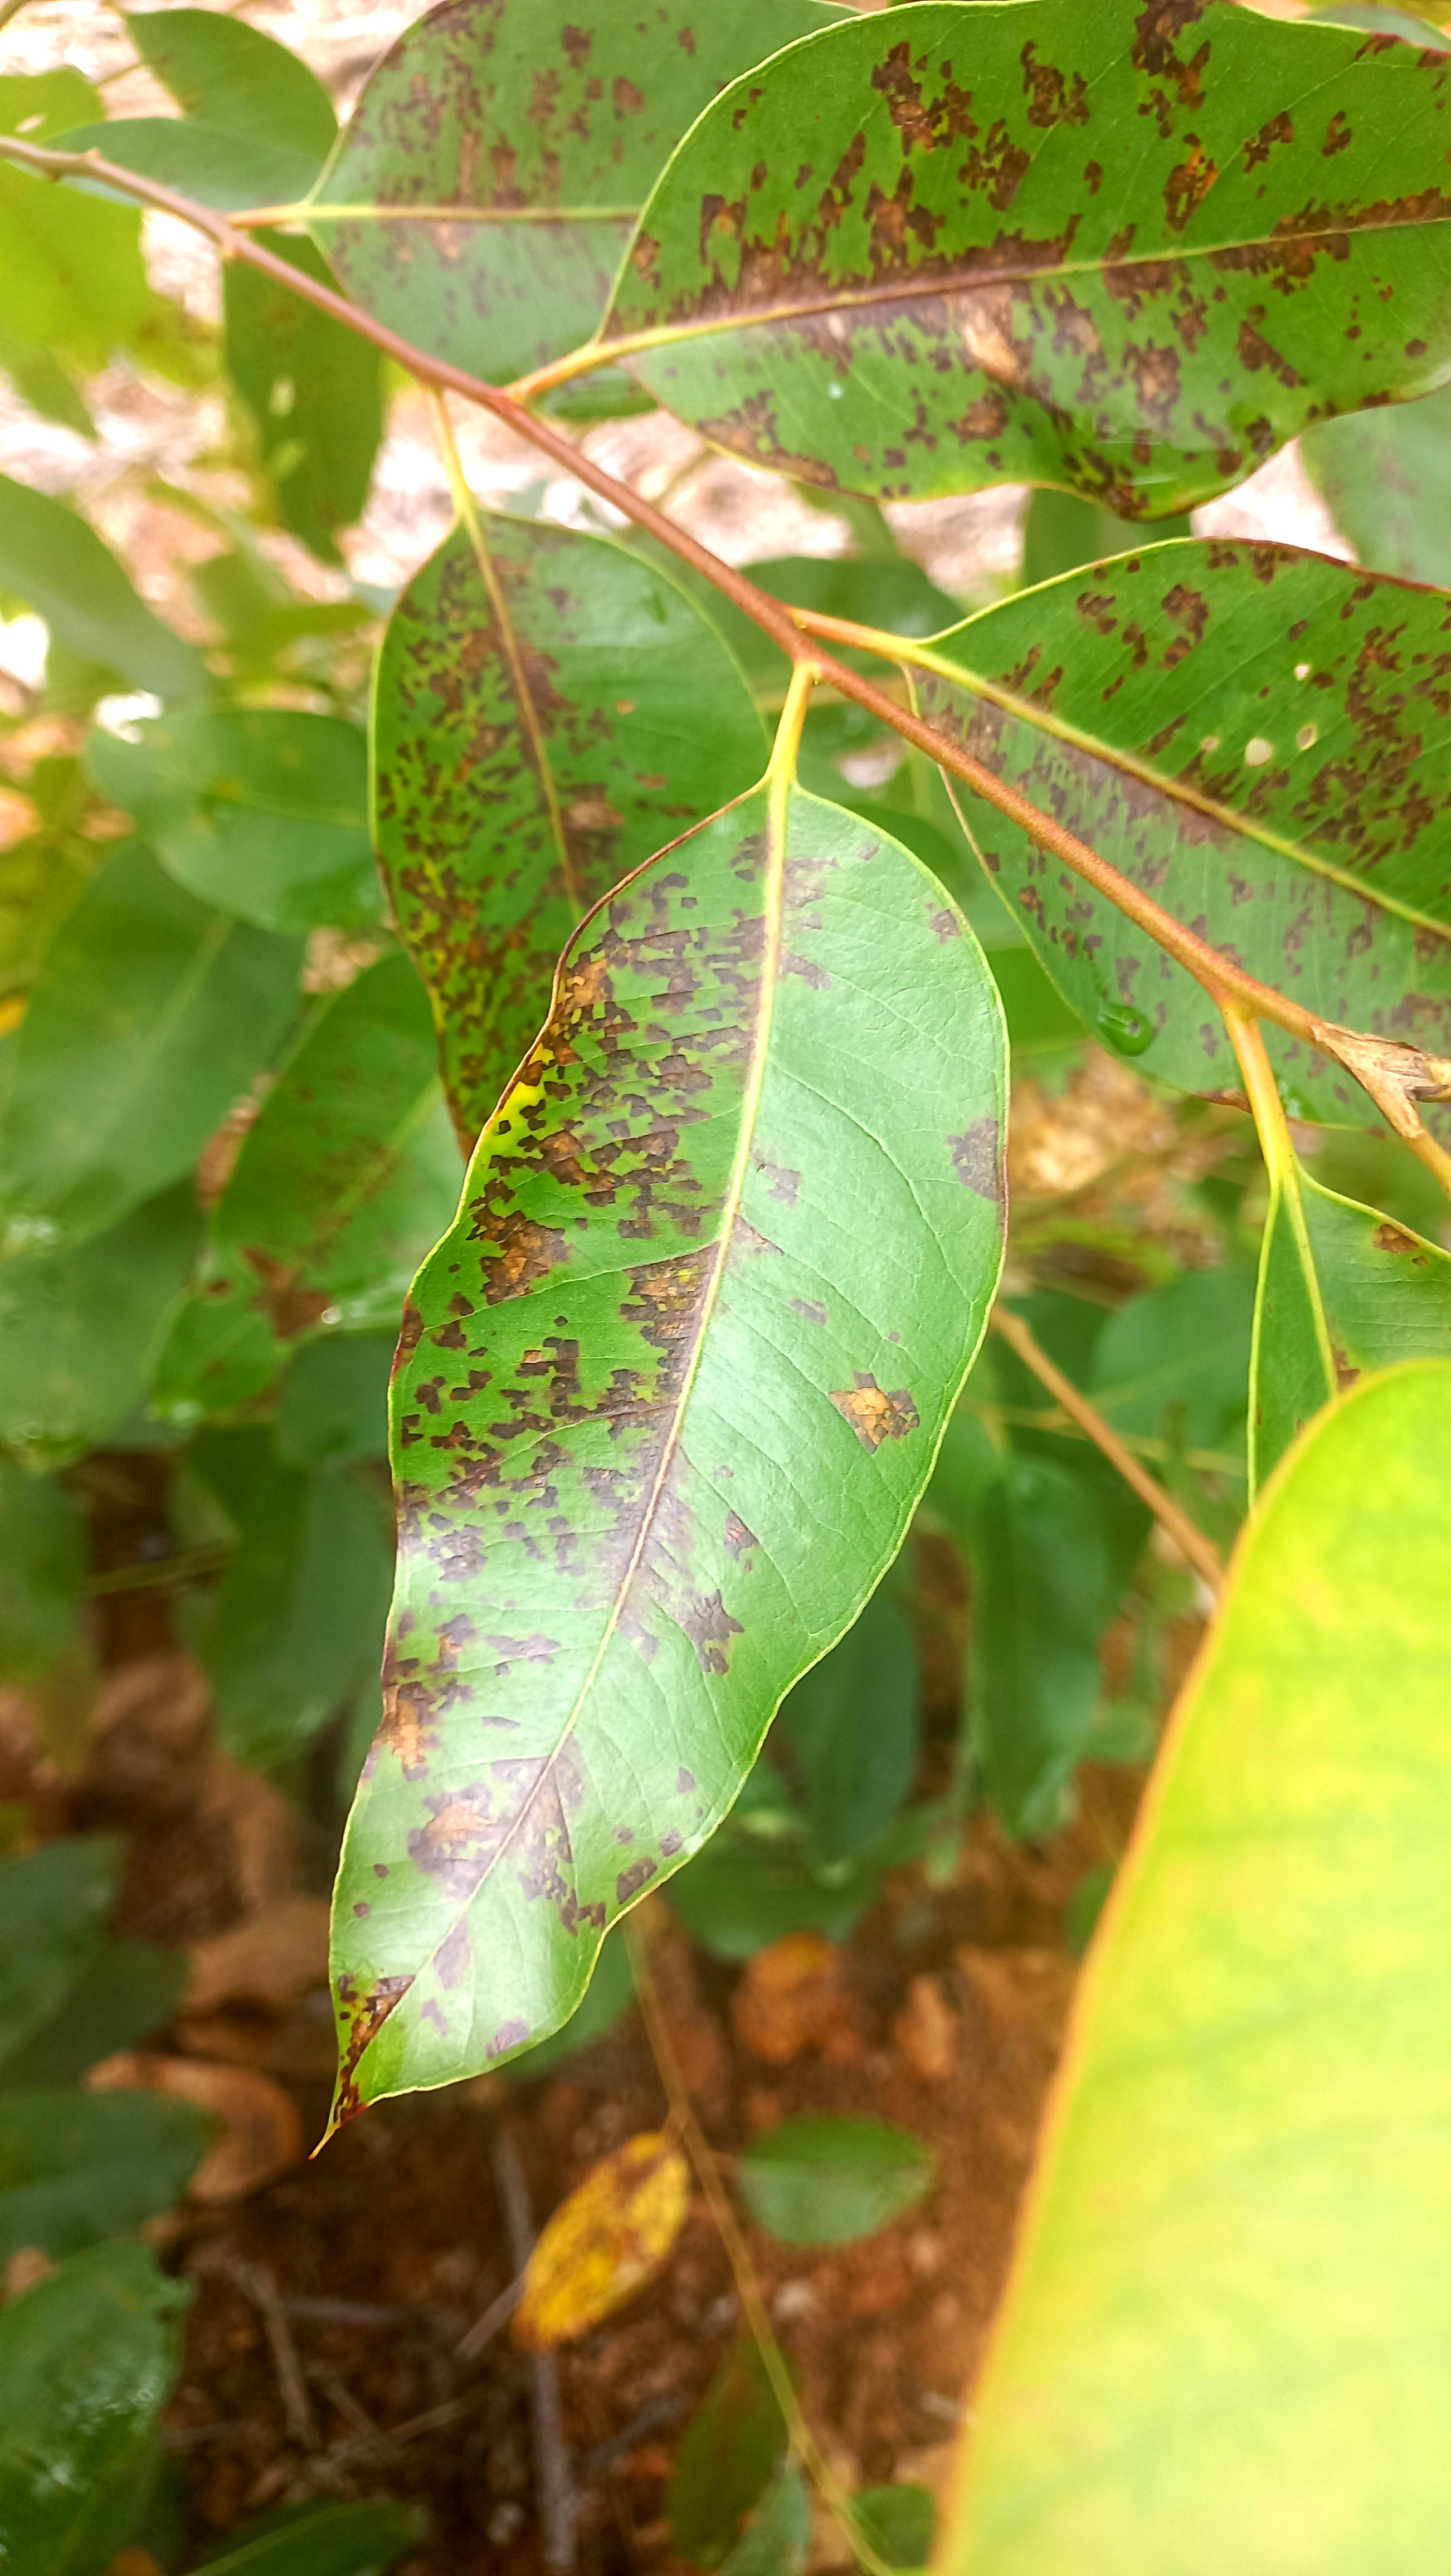Xanthomonas: (368, 502, 1009, 2134), (664, 0, 1451, 504), (924, 540, 1439, 1265), (342, 0, 621, 425)
